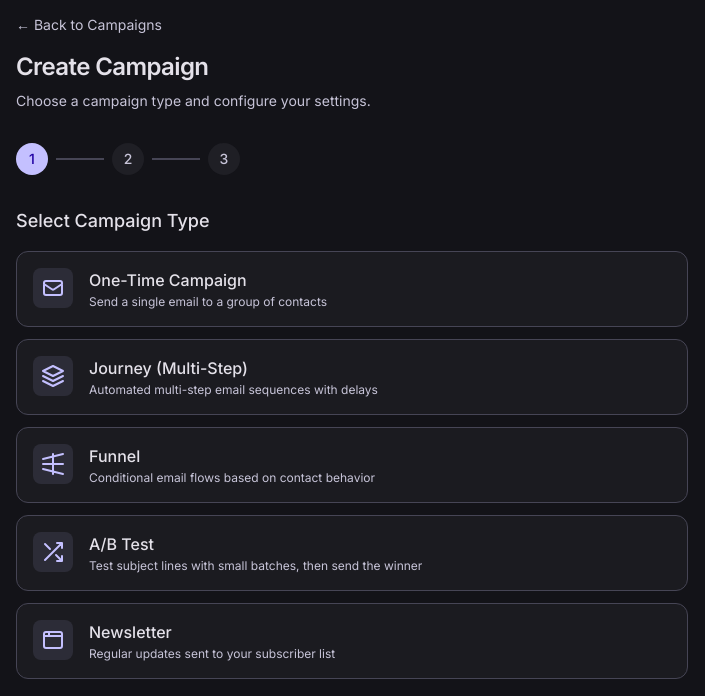
it: NewCampaignPage › renders step one and advances to campaign details
Check: the heading "Select Campaign Type" is shown, box [16,210,210,231]
What coordinates should you click on to do the following:
click the button "One-Time Campaign Send a single email to a group of contacts"
I would click on:
 (53, 288)
Its box is [16,251,688,327].
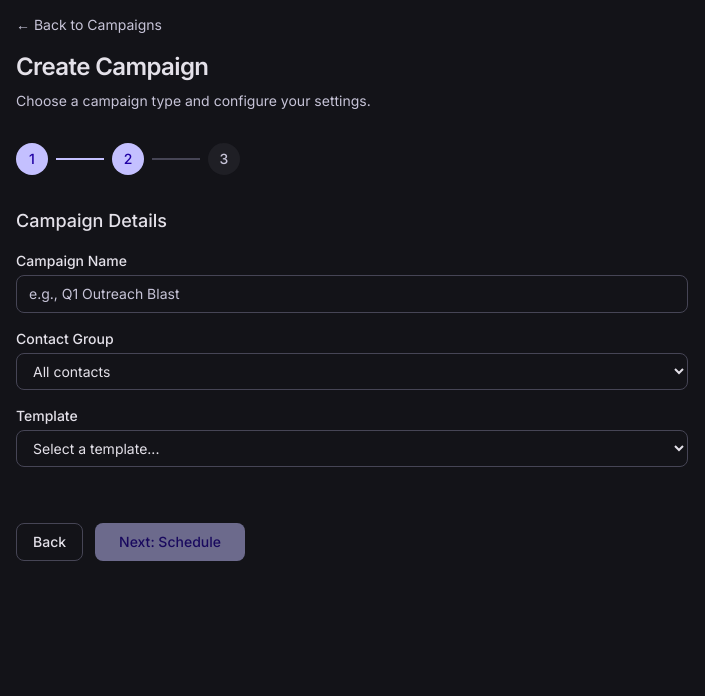
Check: the heading "Campaign Details" is shown, box [16,210,167,231]
Check: the dropdown labelled "Contact Group" is shown, box [16,353,688,390]
Check: the dropdown labelled "Template" is shown, box [16,430,688,467]
What coordinates should you click on to do the following:
click the button "Back"
I would click on:
 (50, 542)
Its box is [16,523,83,561].
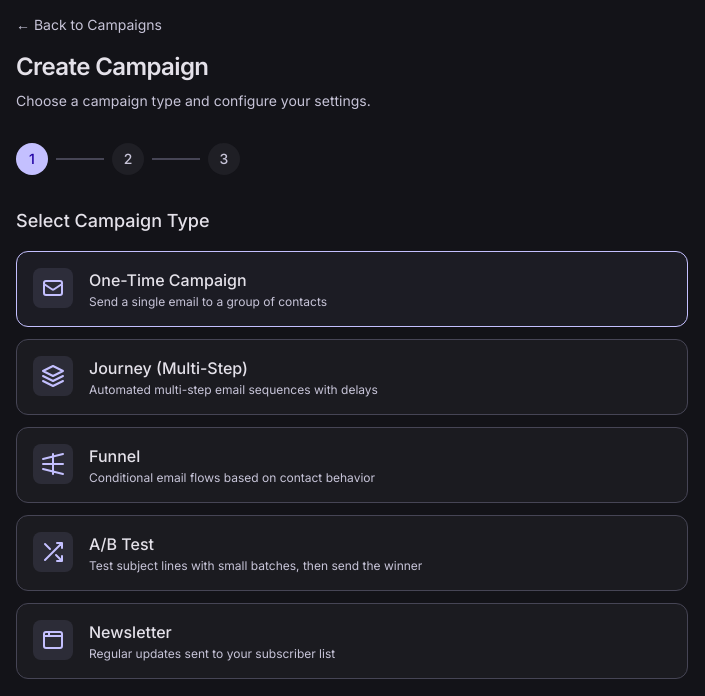
Check: the heading "Select Campaign Type" is shown, box [16,210,210,231]
